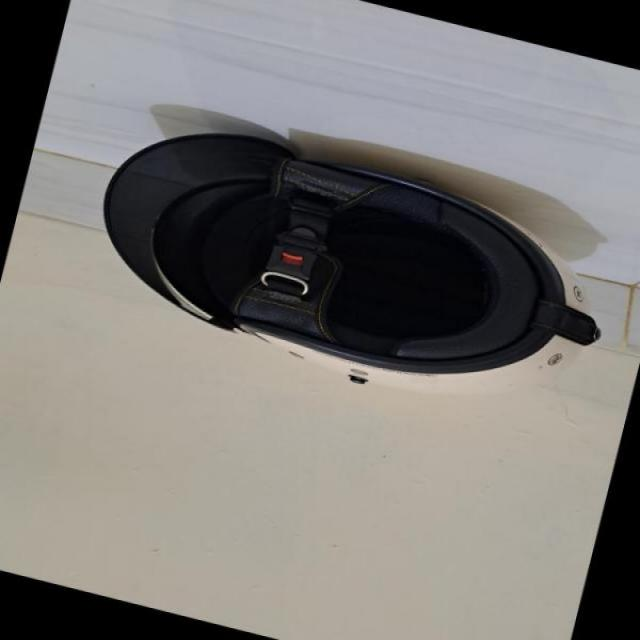Helmet: (99, 106, 600, 412)
